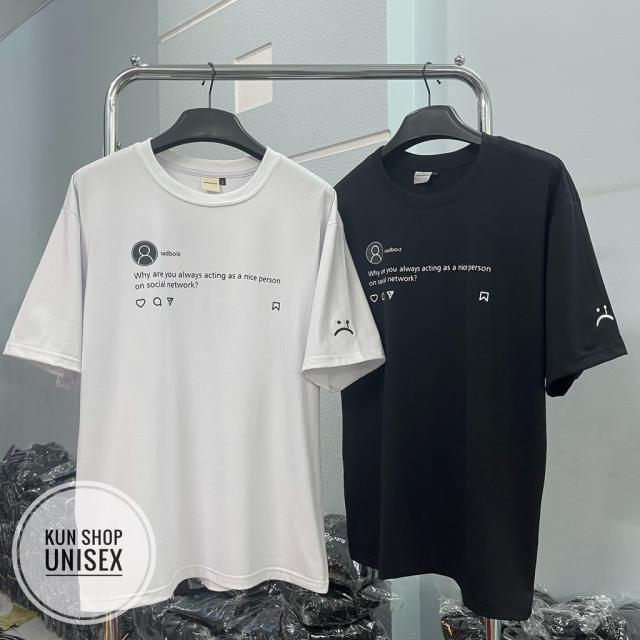Shirt: (9, 132, 377, 598), (326, 142, 632, 618)
